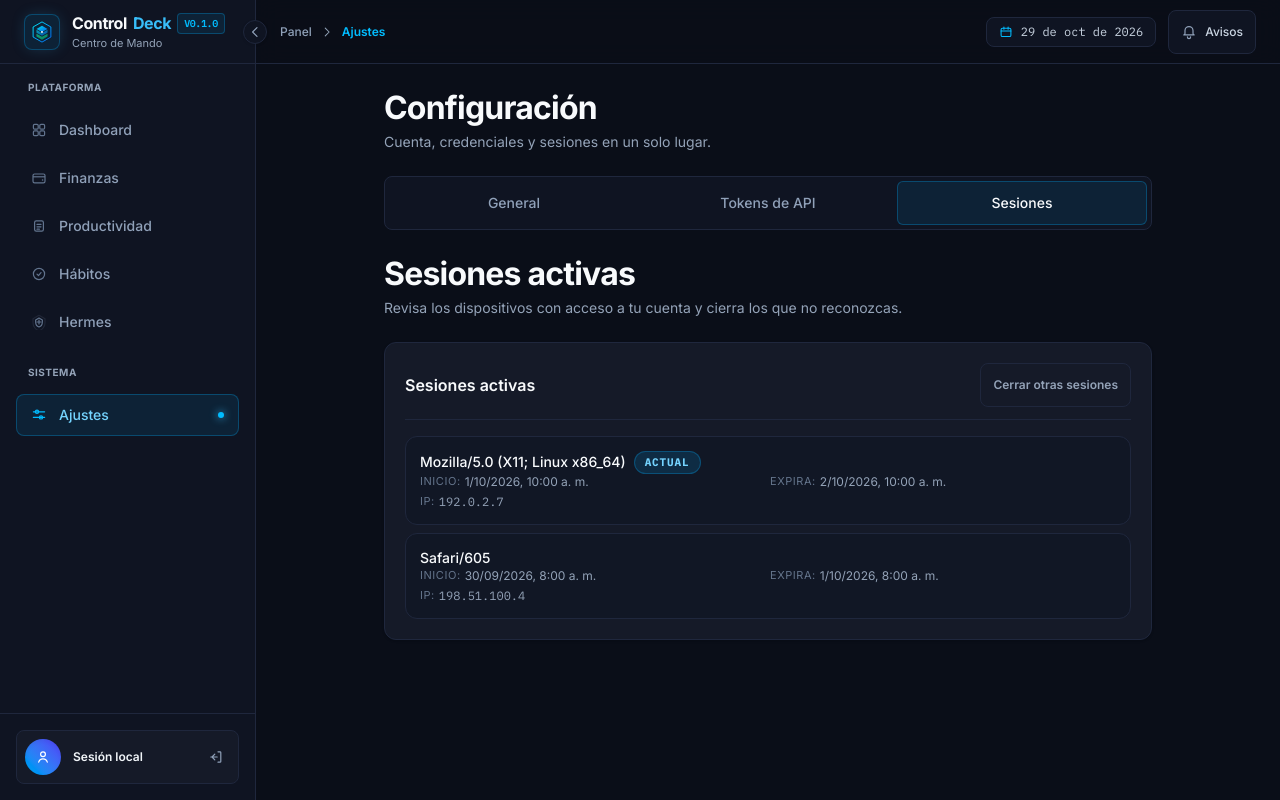
Test: sessions page › surfaces a revoke failure without losing the list
Expected: the text "Safari/605" is shown, [420,548,490,568]
Click the button "Cerrar otras sesiones": {"x": 1056, "y": 385} [980,363,1131,407]
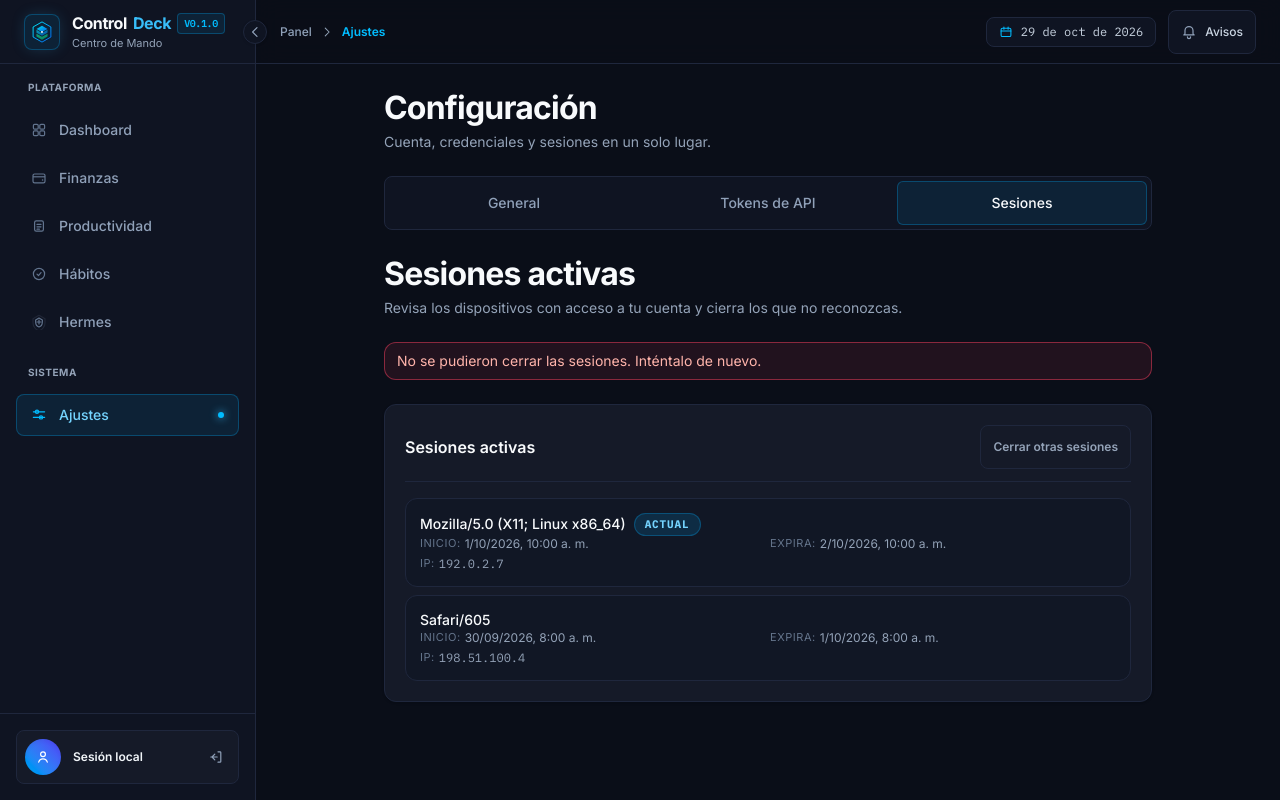
Expected: the text "Safari/605" is shown, [420,610,490,630]
Expected: the text "No se pudieron cerrar las sesiones. Inténtalo de nuevo." is shown, [384,342,1152,380]
